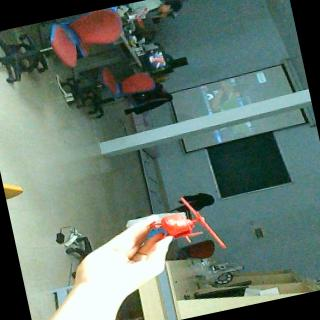Helicopter: (142, 190, 227, 264)
